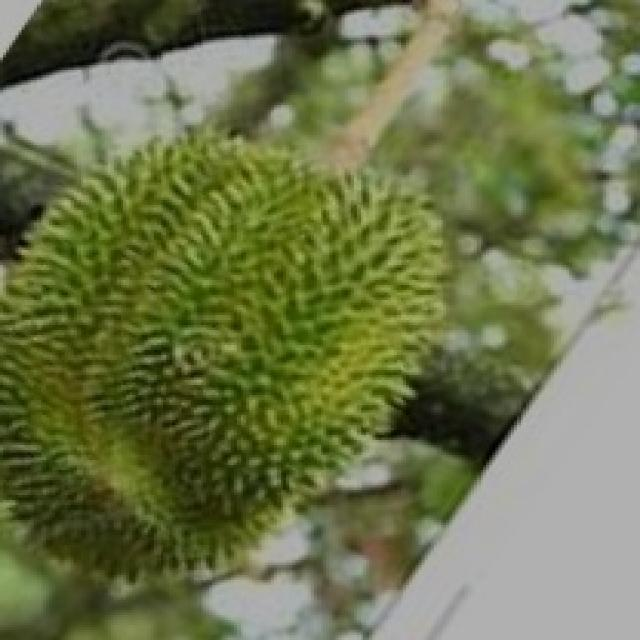fruit: (0, 77, 357, 505)
